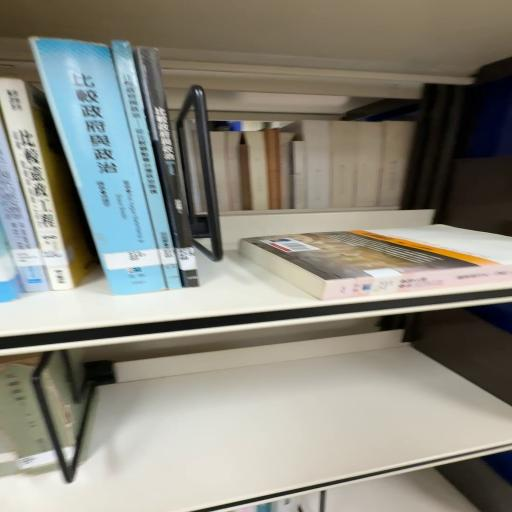flat: (240, 226, 512, 301)
